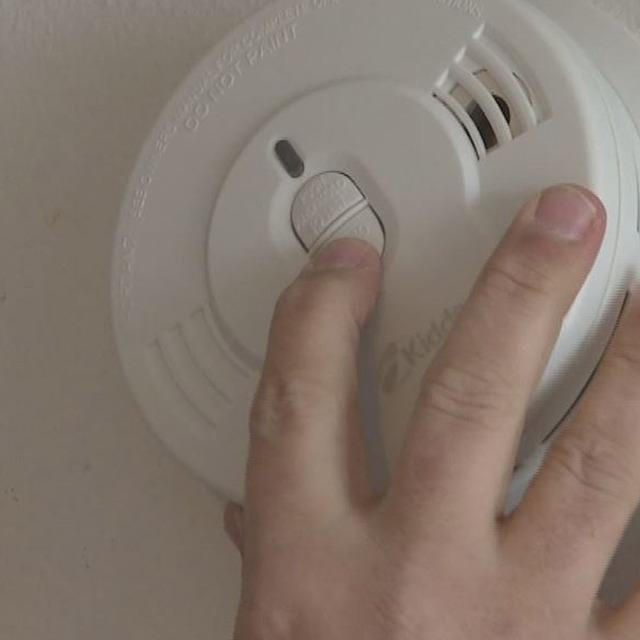Smoke-Detector: (124, 0, 640, 196)
